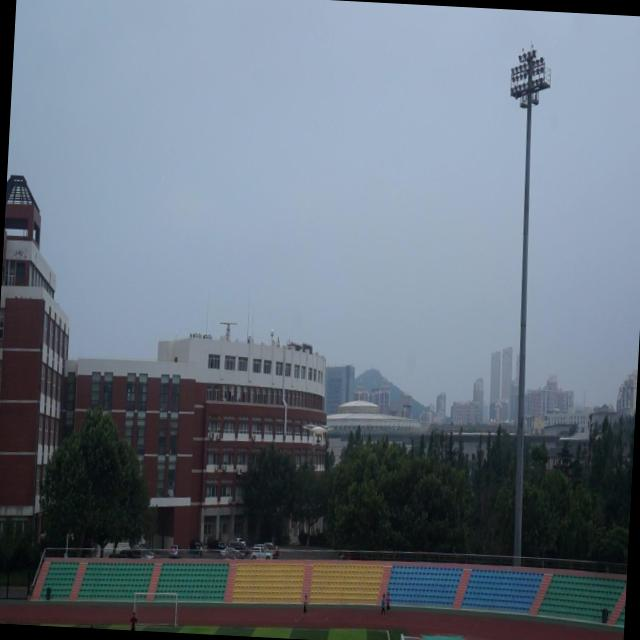drone: (300, 420, 336, 447)
